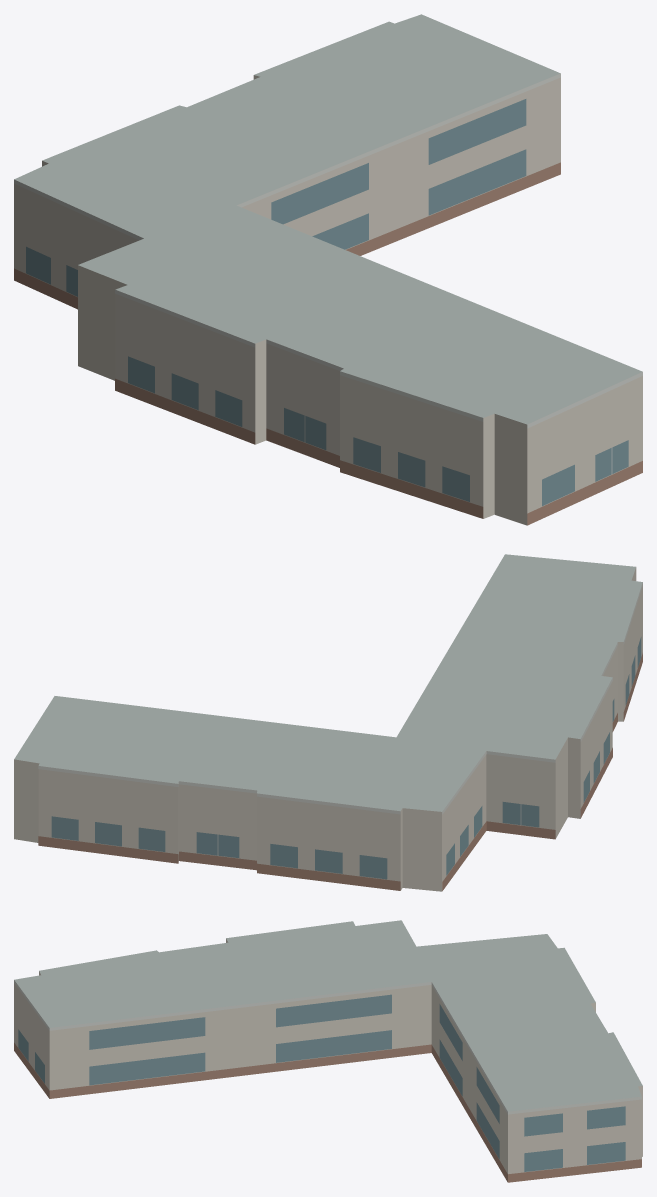
File: survey-upis-32499647.glb
3 renders of one model, top to bottom at view 1: azimuth 30°, elevation 25°; view 2: azimuth 150°, elevation 25°; view 3: azimuth 270°, elevation 25°, orthographic. The views are drawn at different scales.
Visible parts, largest first — view 1: survey-upis-32499647.tmp; view 2: survey-upis-32499647.tmp; view 3: survey-upis-32499647.tmp.
Boxes of the visible parts, x1,y1,x2,y2 form: survey-upis-32499647.tmp: (14, 14, 642, 525); survey-upis-32499647.tmp: (14, 554, 642, 891); survey-upis-32499647.tmp: (14, 920, 642, 1182).
Bounding box in the file's own units: 35.3 × 6.1 × 48.99.
